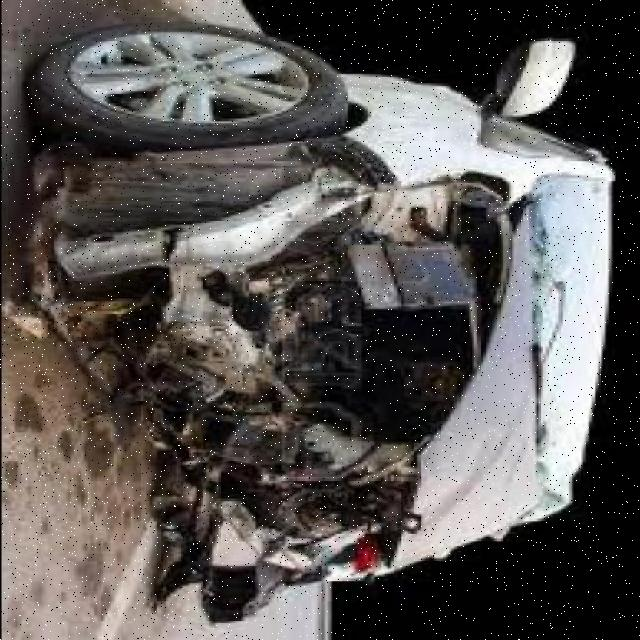damage: (2, 130, 617, 632)
